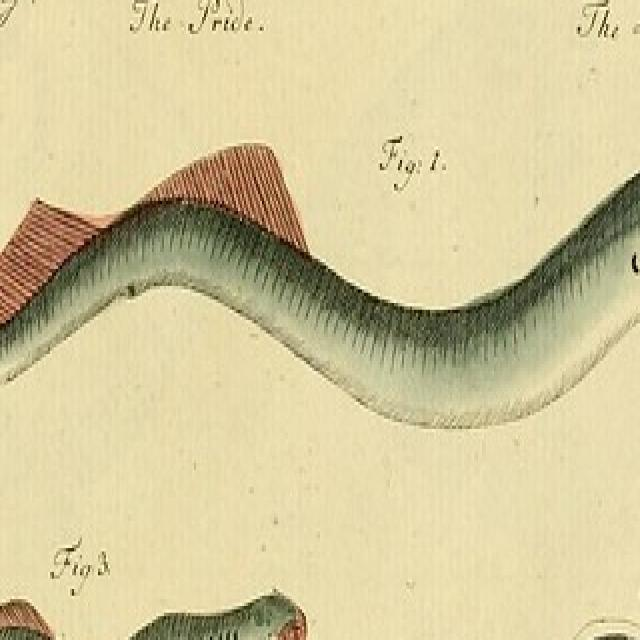Snake: (0, 136, 640, 429), (0, 585, 308, 640)
